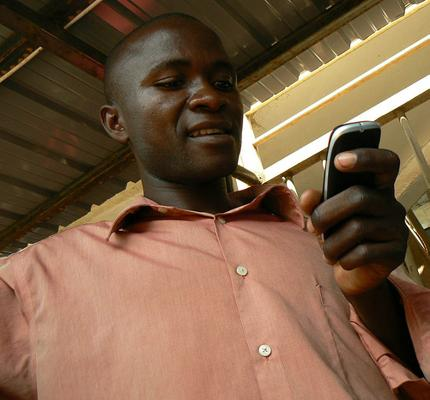person: (2, 14, 430, 398)
